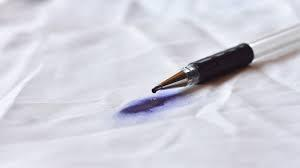ink: (120, 96, 174, 117)
